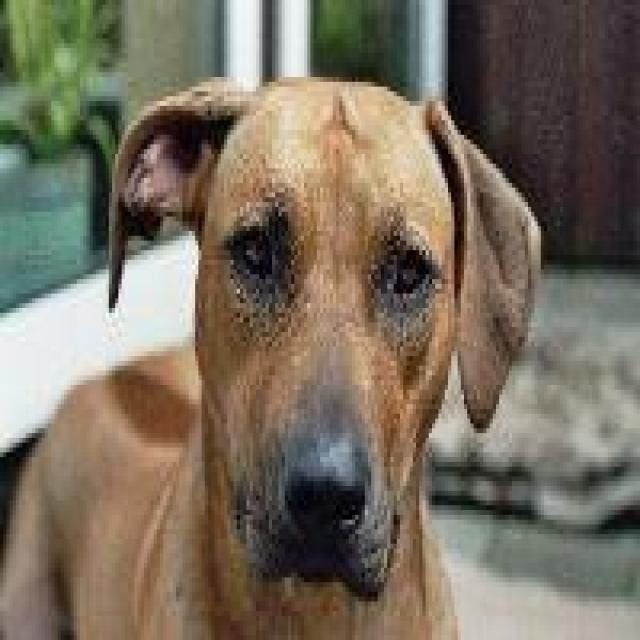rhodesian_ridgeback: (0, 77, 544, 635)
